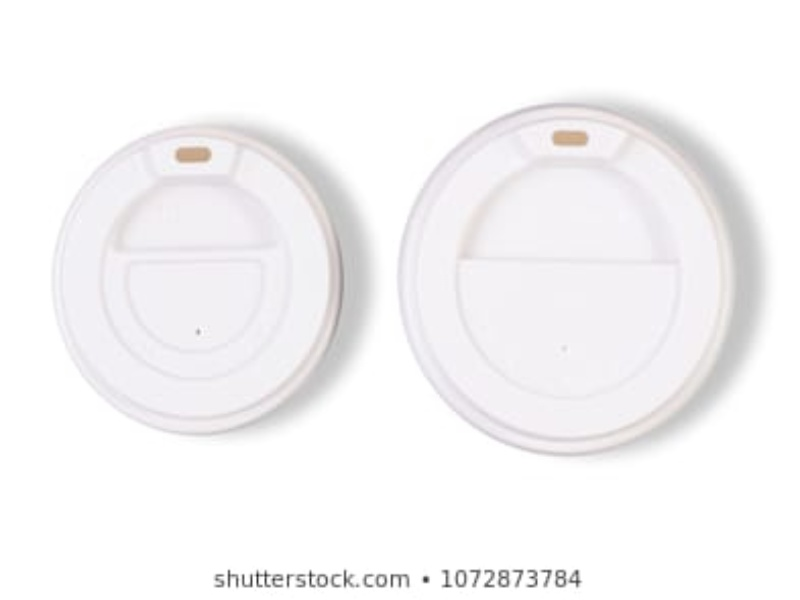coffee-lid: (388, 100, 745, 454), (47, 119, 348, 437)
